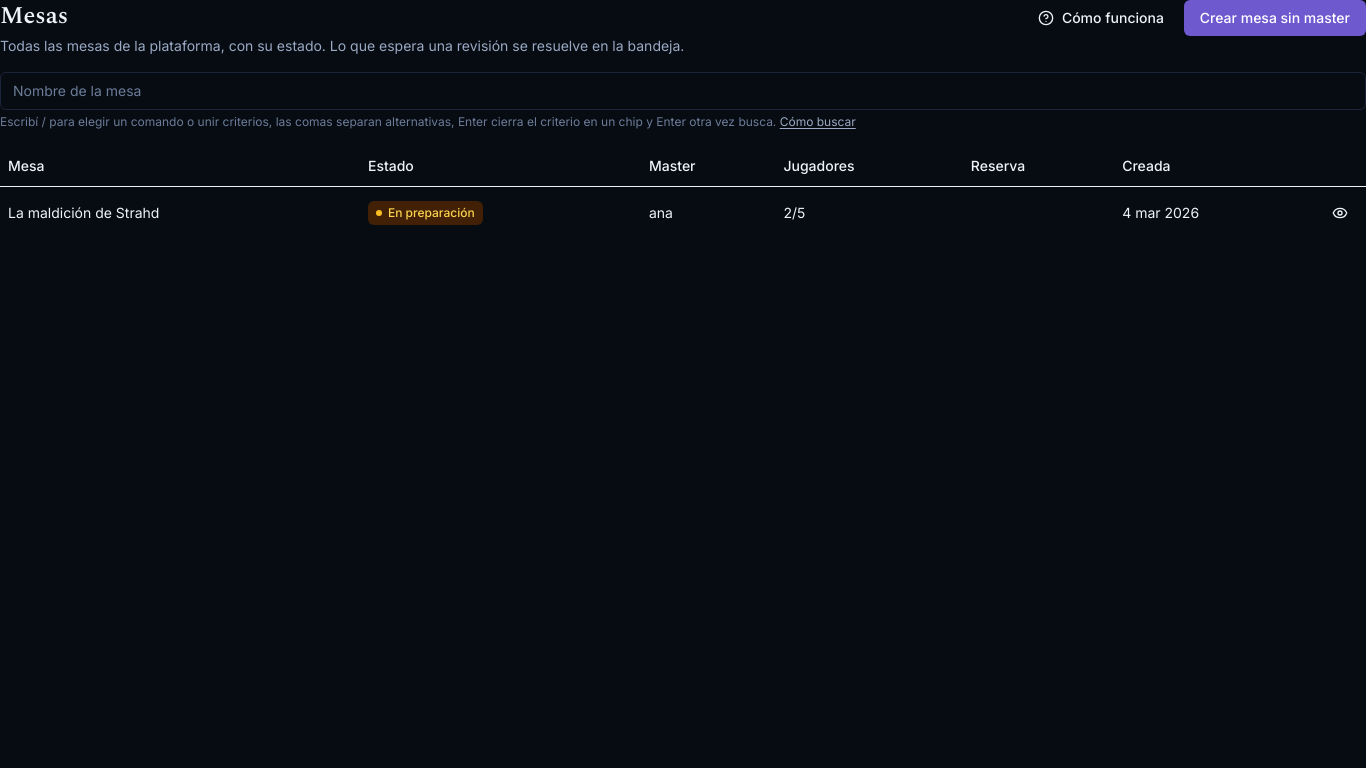
AdminTablesPage › documents its own six search commands
Click the button "Cómo buscar" at point(818, 122), box [780,114,856,130]
(page scrolled)
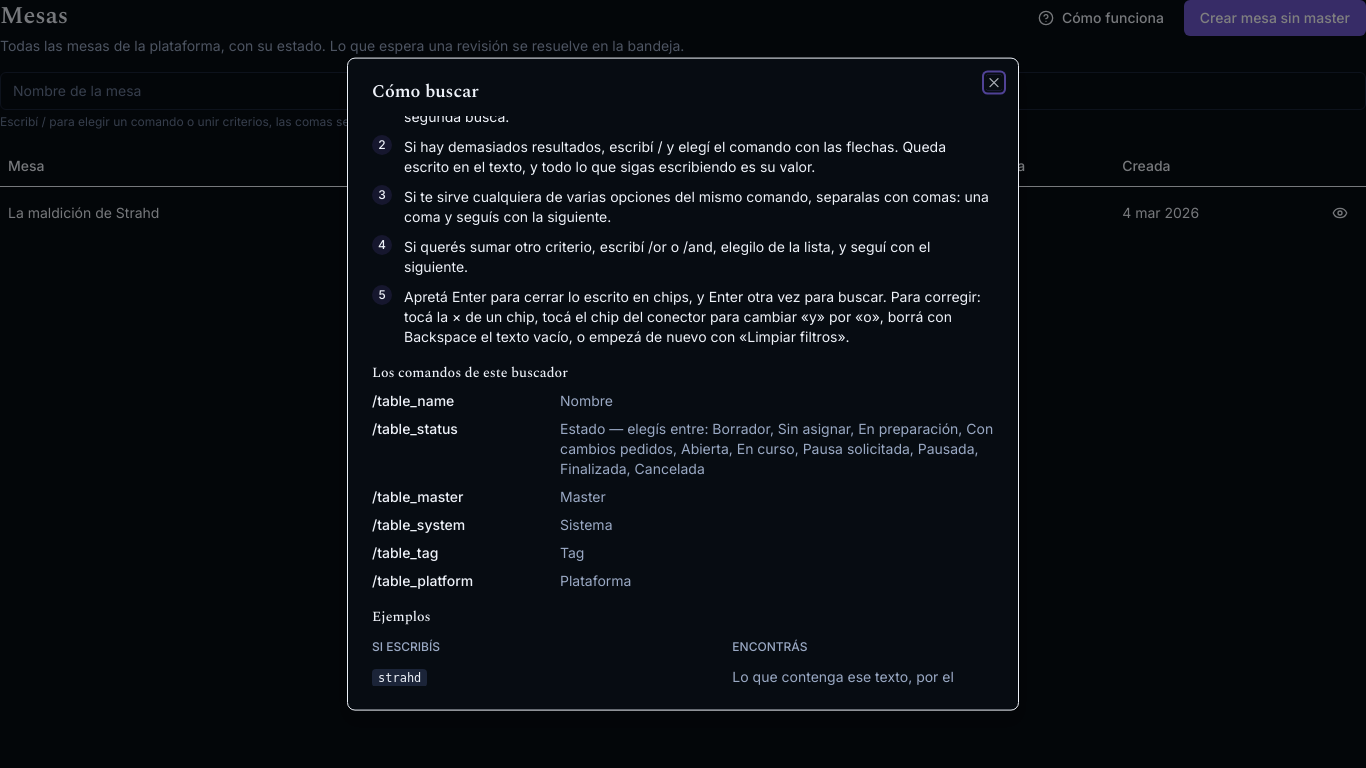
Expected: the text "/table_status" is shown, [372,420,458,437]
Expected: the text "/table_master" is shown, [372,488,464,505]
Expected: the text "/table_name" is shown, [372,392,454,409]
